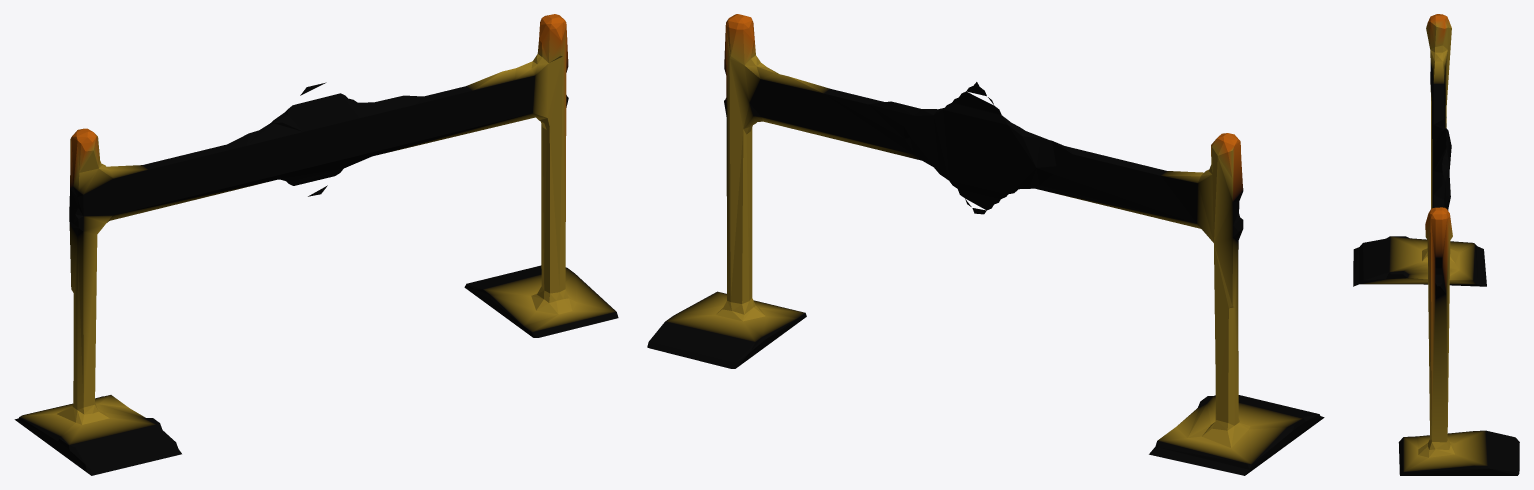
The model's file is Construction Barriers.glb.
3 views of the same model, side by side, from view 1: azimuth 30°, elevation 25°; view 2: azimuth 150°, elevation 25°; view 3: azimuth 270°, elevation 25° (orthographic). The views are drawn at different scales.
Parts seen in each view (by area): view 1: Root; view 2: Root; view 3: Root.
Boxes of the visible parts, box(x1,y1,x2,y2) form: Root: box(14, 14, 618, 475); Root: box(647, 14, 1324, 475); Root: box(1353, 14, 1519, 475).
Size of the model in its own units: 1.79 by 0.9119 by 0.5461.
